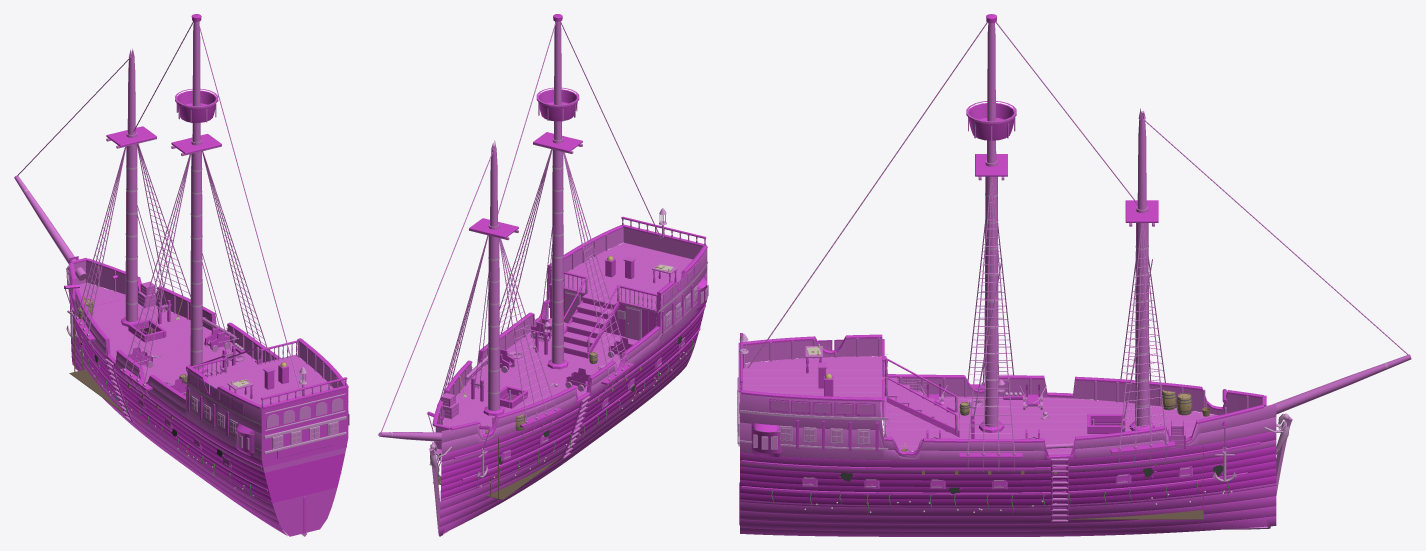
The model's file is ship_wreck.glb.
3 renders of one model, left to right at view 1: azimuth 30°, elevation 25°; view 2: azimuth 150°, elevation 25°; view 3: azimuth 270°, elevation 25°, orthographic. The views are drawn at different scales.
Parts seen in each view (by area): view 1: hull; view 2: hull; view 3: hull.
Part boxes in pixels (x1,y1,x2,y2): hull: (14,14,349,536); hull: (378,14,708,536); hull: (737,14,1411,536).
Size of the model in its own units: 8.3 by 27.5 by 32.66.
